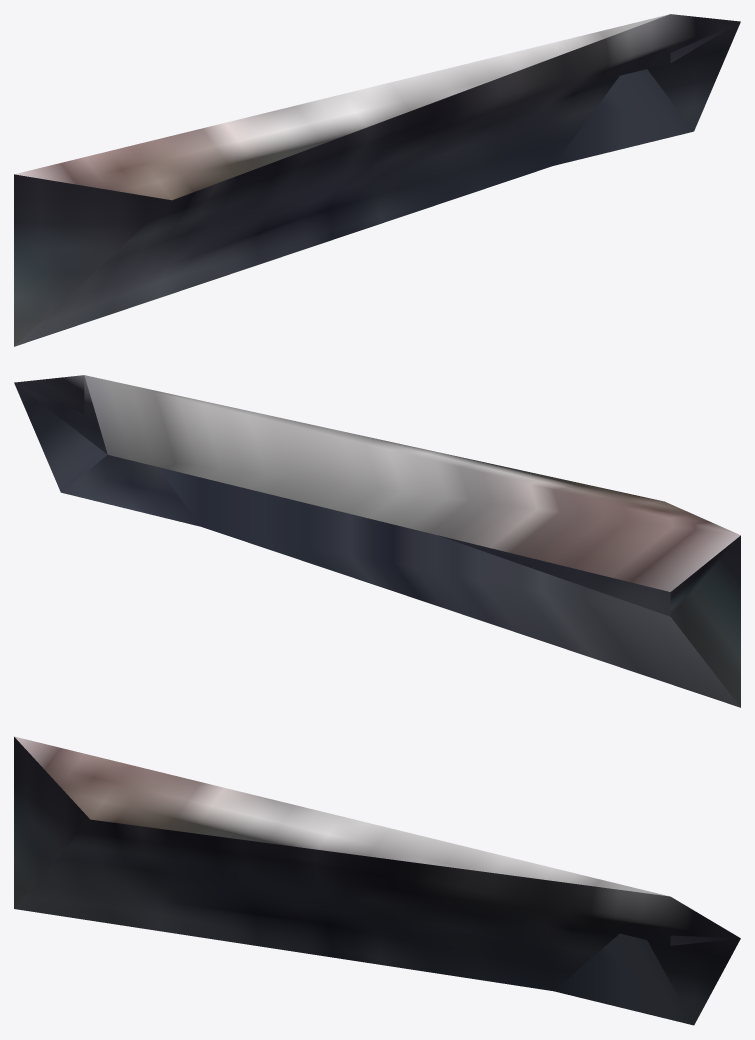
3 renders of one model, top to bottom at view 1: azimuth 30°, elevation 25°; view 2: azimuth 150°, elevation 25°; view 3: azimuth 330°, elevation 25°, orthographic.
Parts seen in each view (by area): view 1: 30436272704361637762_0; view 2: 30436272704361637762_0; view 3: 30436272704361637762_0.
Boxes of the visible parts, x1,y1,x2,y2 form: 30436272704361637762_0: (14,14,740,346); 30436272704361637762_0: (14,375,740,707); 30436272704361637762_0: (14,736,740,1025).
Size of the model in its own units: 4.76 by 1.08 by 0.4631.
1 material, 1 textured.
